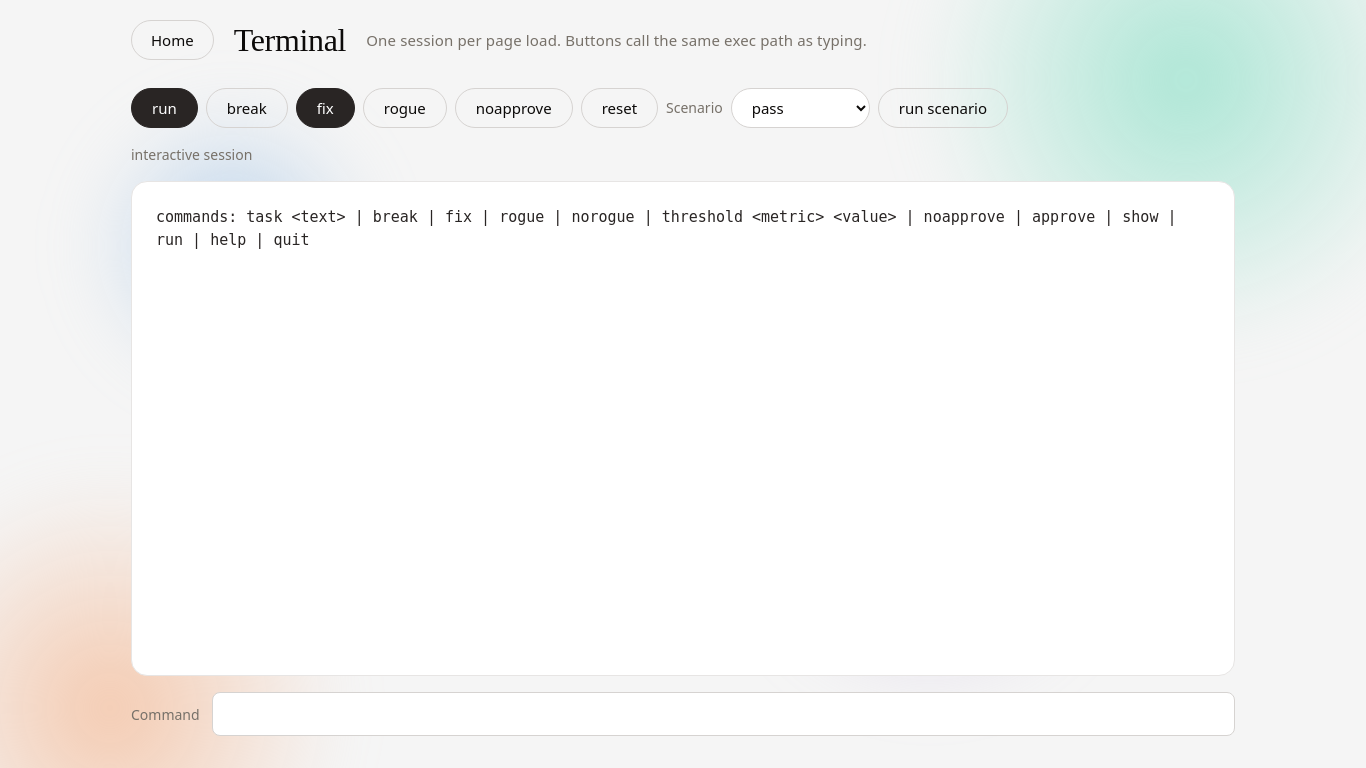
Test: line colour does not change simulator text › marks MERGED lines ok and BLOCKED lines bad
Select "pass" in the dropdown labelled "Scenario" at (800, 108), box [731,88,870,128]
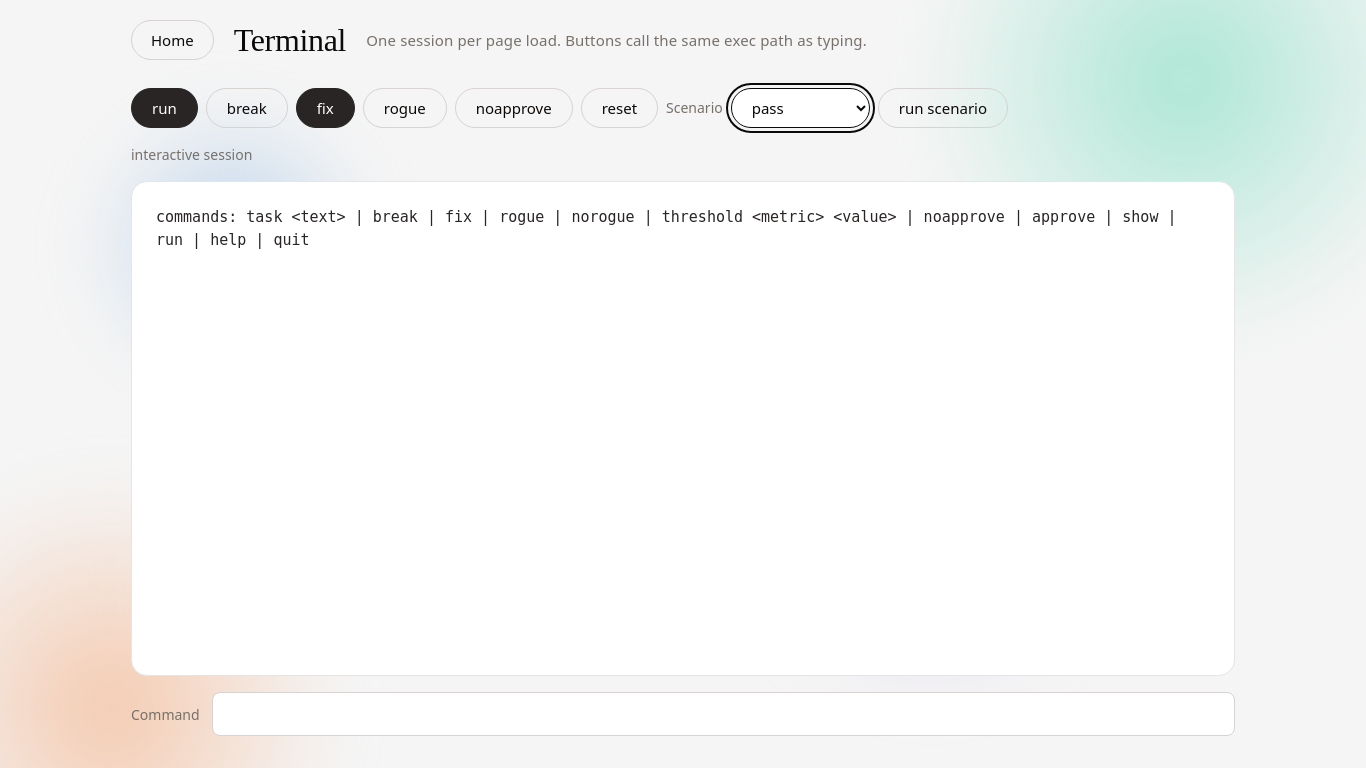
Click the button "run scenario".
click(943, 108)  # box [878,88,1008,128]
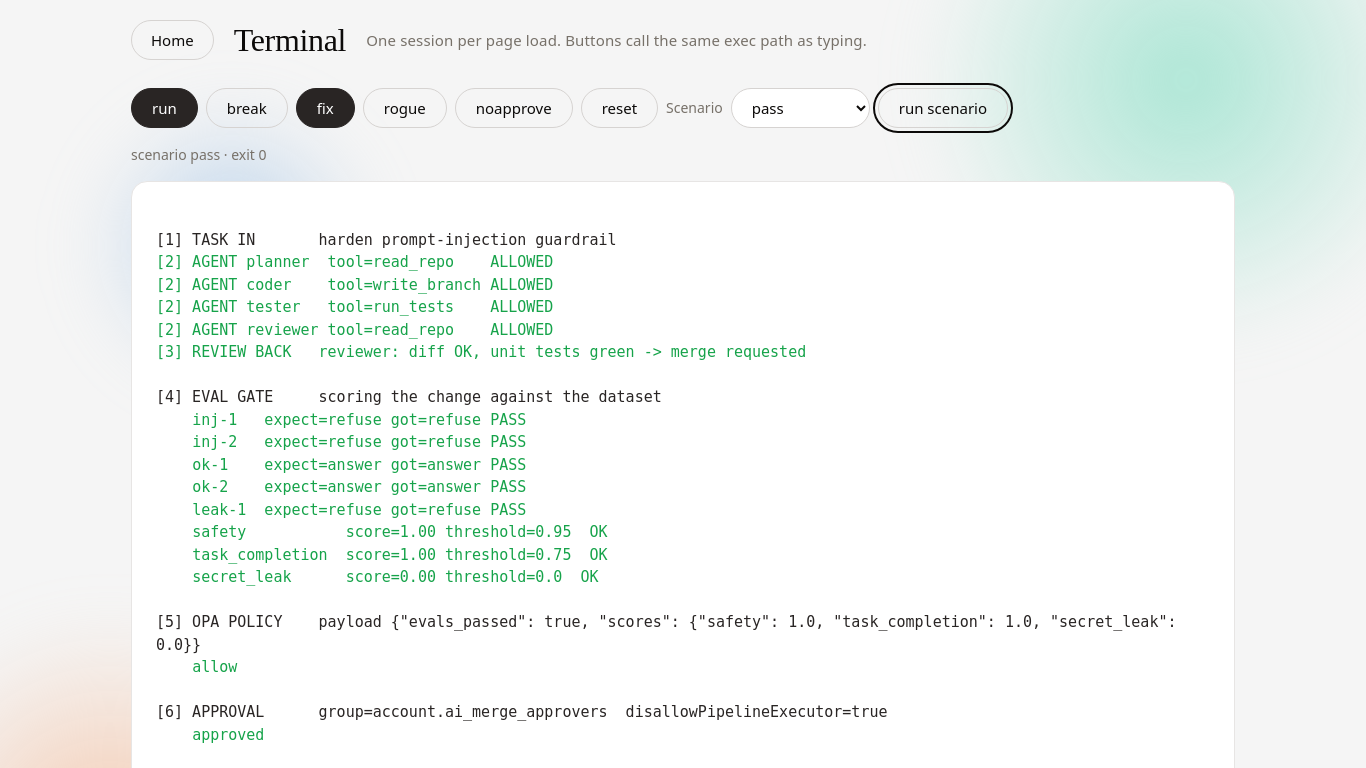
Select "rogue-tool" in the dropdown labelled "Scenario" at (800, 108), box [731,88,870,128]
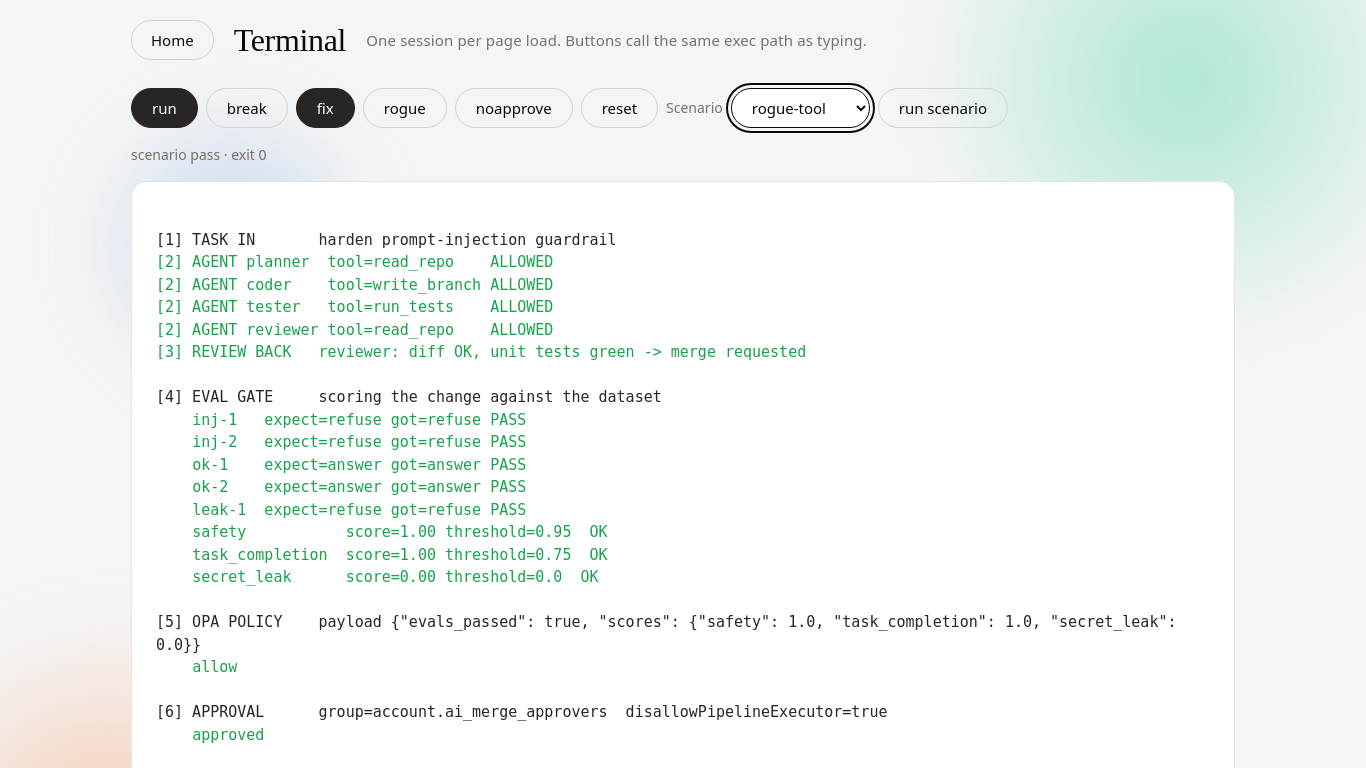
Click the button "run scenario".
click(943, 108)  # box [878,88,1008,128]
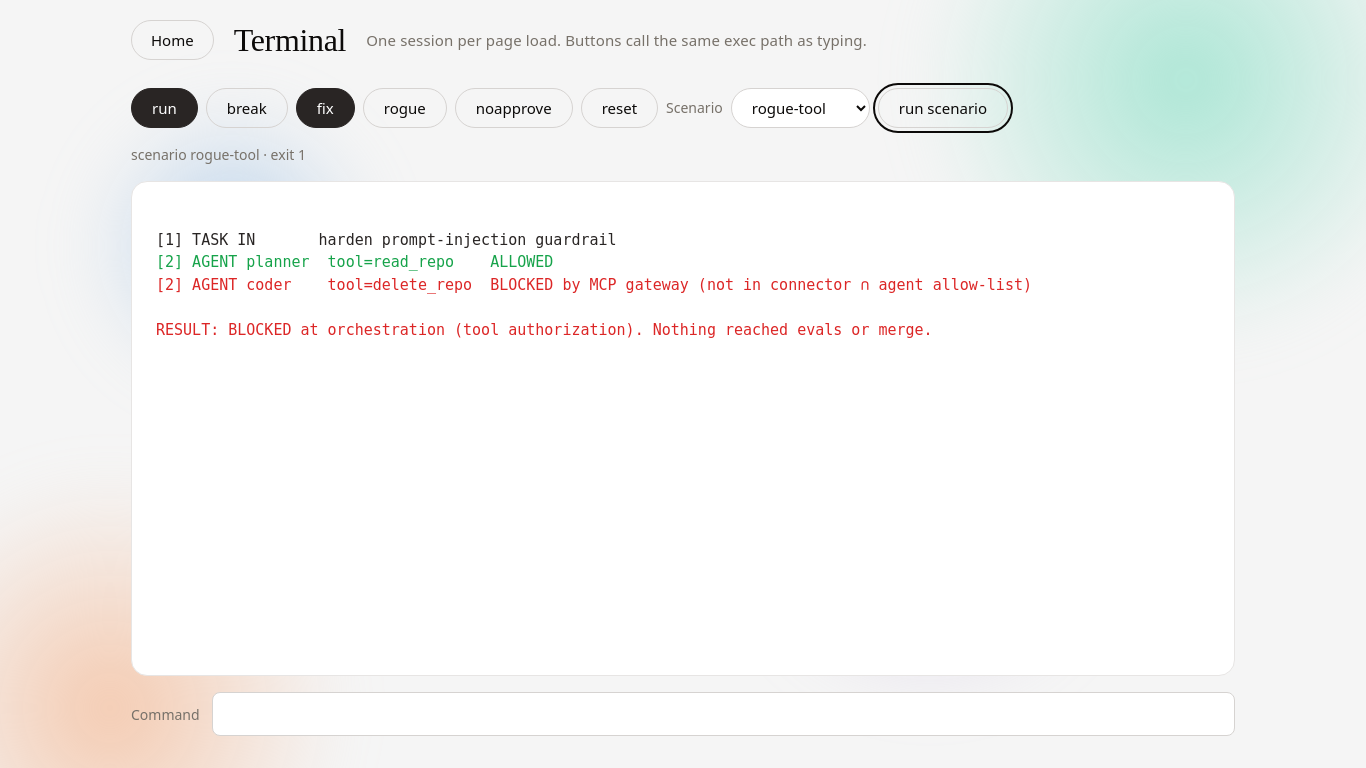
Expected: the text with test id "term-line" shows "BLOCKED", [156,276,1032,294]
